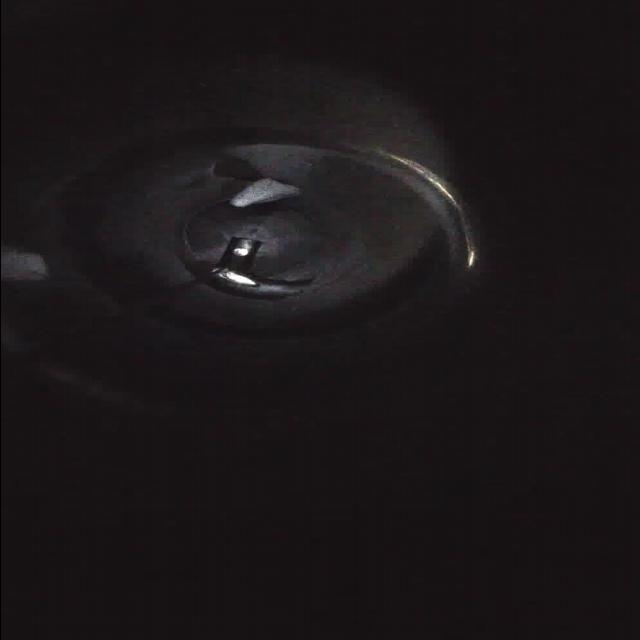impurity: (227, 174, 304, 214)
